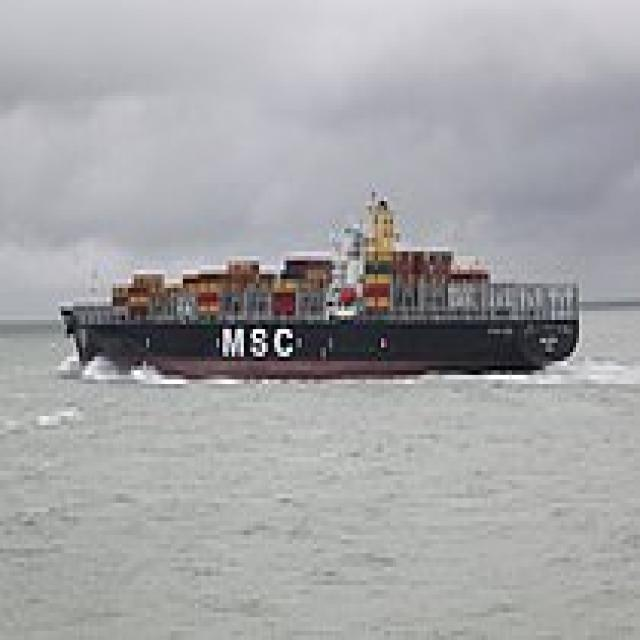Cargo: (52, 178, 579, 375)
